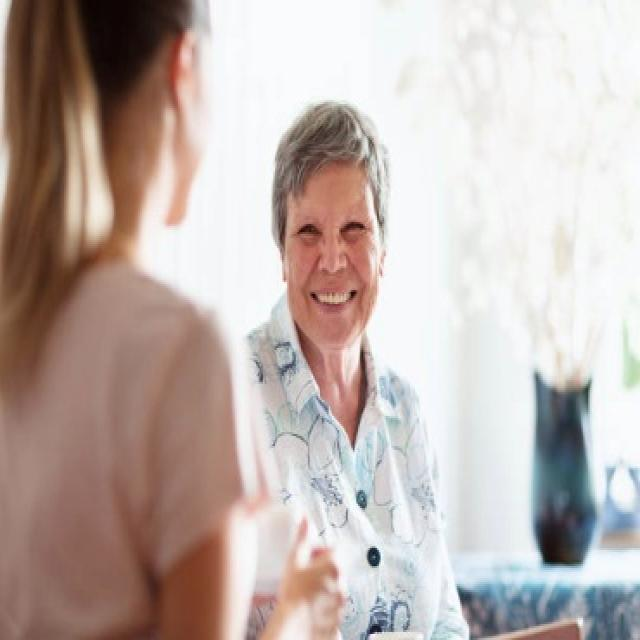adult: (233, 93, 549, 640)
